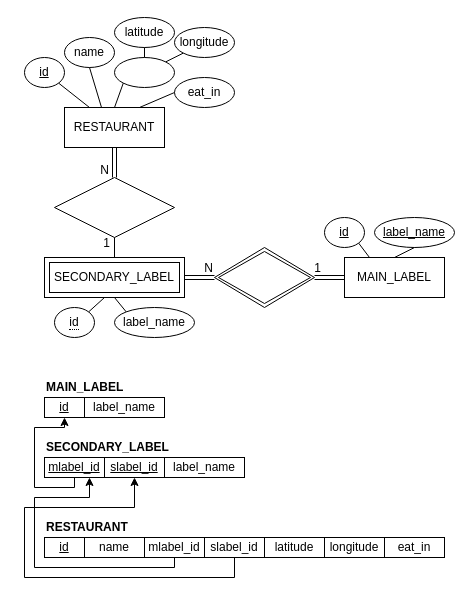
Some shapes in this 472 by 603 pixel diagram are drawn without their labels. The centre of each missing label's shape, as x and y in pixels:
"IS_LABELED_AS" belongs at pixel 114 207.
"IS_UNDER" belongs at pixel 264 277.
"location" belongs at pixel 144 72.
